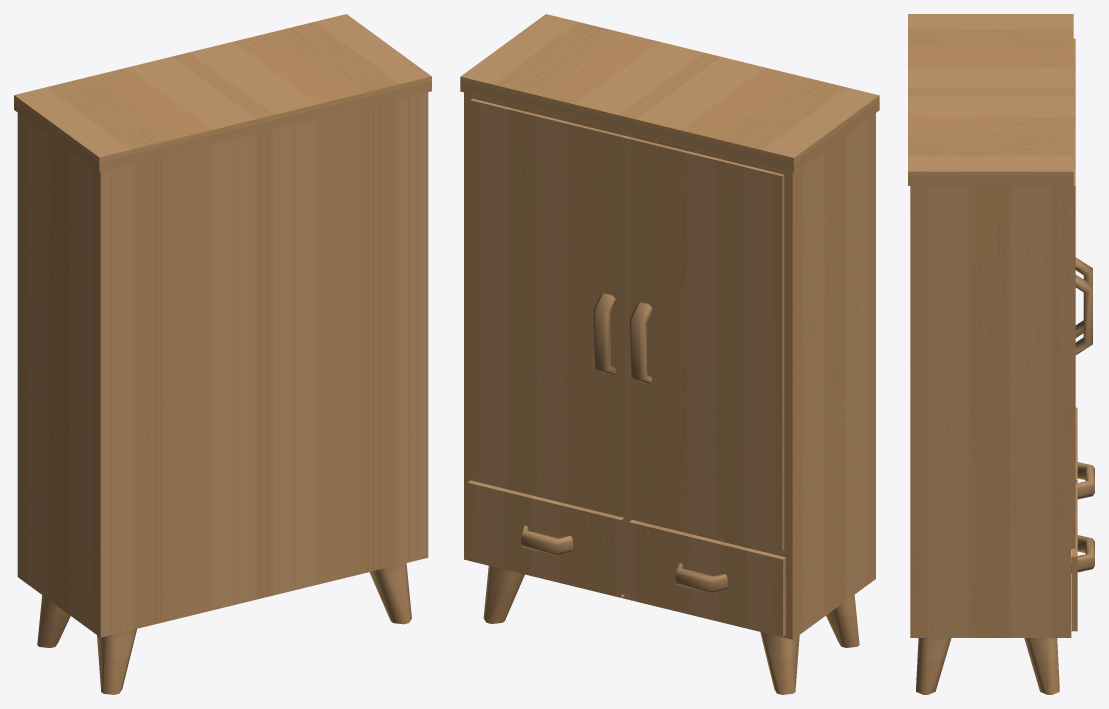
The model's file is Anim.fbx.
3 renders of one model, left to right at view 1: azimuth 30°, elevation 25°; view 2: azimuth 150°, elevation 25°; view 3: azimuth 270°, elevation 25°, orthographic. The views are drawn at different scales.
Parts seen in each view (by area): view 1: Drawers; view 2: Drawers, DoorLeft, DoorRight; view 3: Drawers, DoorLeft, DoorRight.
Boxes of the visible parts, x1,y1,x2,y2 form: Drawers: (14,14,431,694); Drawers: (460,14,879,694); DoorLeft: (470,98,630,513); DoorRight: (622,135,784,550); Drawers: (908,14,1094,694); DoorLeft: (1071,114,1092,548); DoorRight: (1073,38,1092,337).
Bounding box in the file's own units: 2.03 × 3.18 × 1.02.
